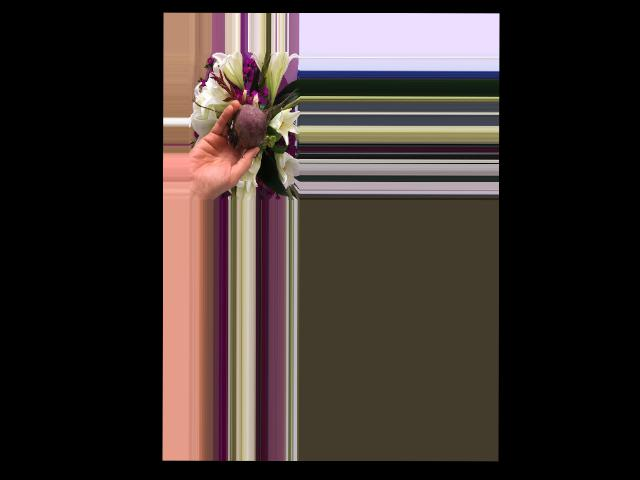beet: (227, 87, 297, 148)
